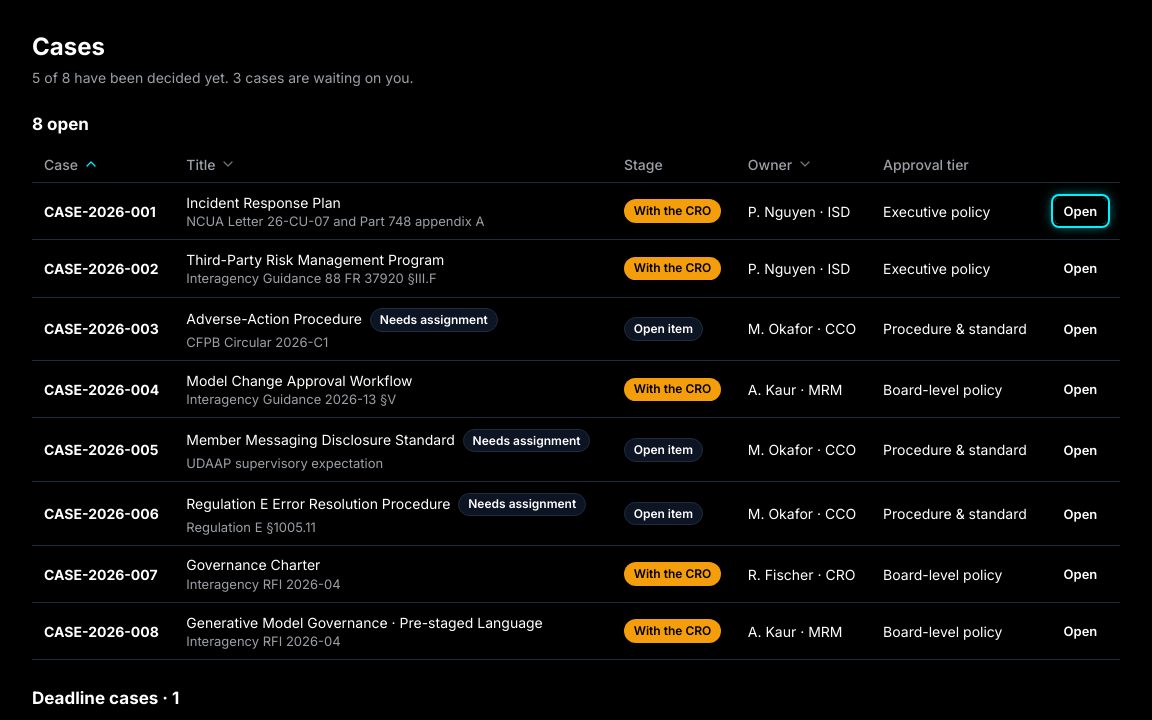
Scenario: PI2-D14 — case content mounts inside the shared Drawer (C7), not a full-page swap › opening a case row renders its content inside role="dialog", with the list still mounted underneath
Expected: the text "CASE-2026-001" is shown, [44, 203, 156, 220]
Click the button "Open" in the row of "CASE-2026-001" at (1080, 211), box [1054, 198, 1106, 224]
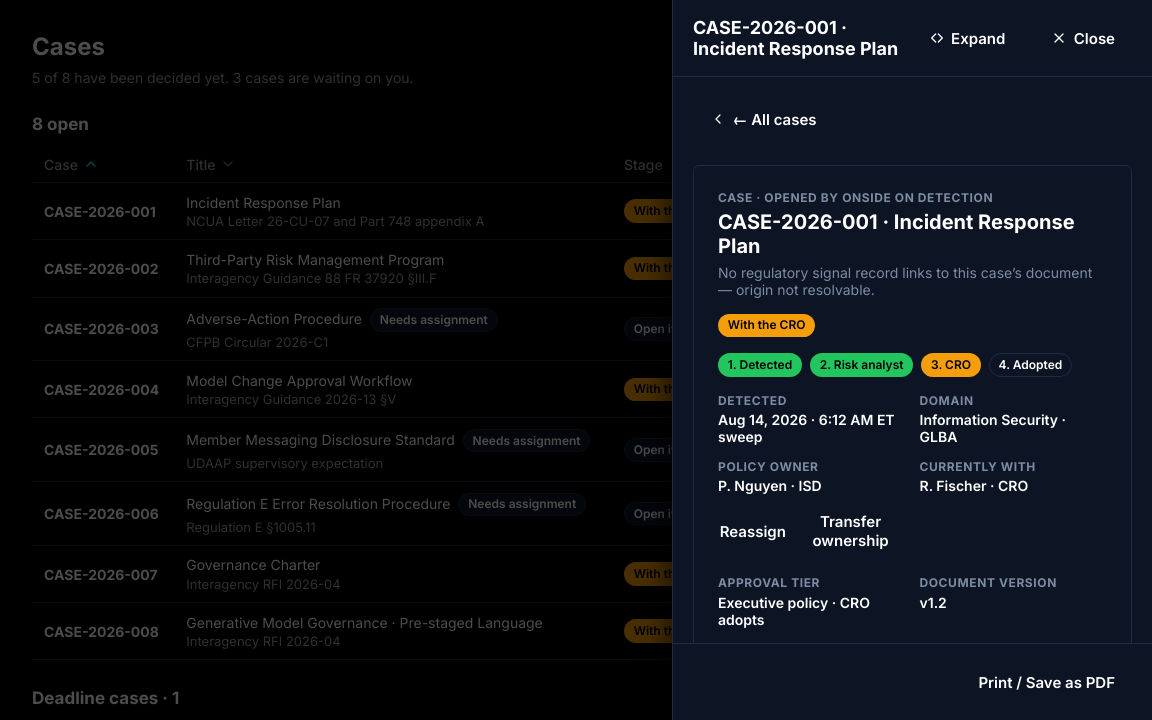
Result: the dialog shows "CASE-2026-001" at [718, 210, 878, 234]
